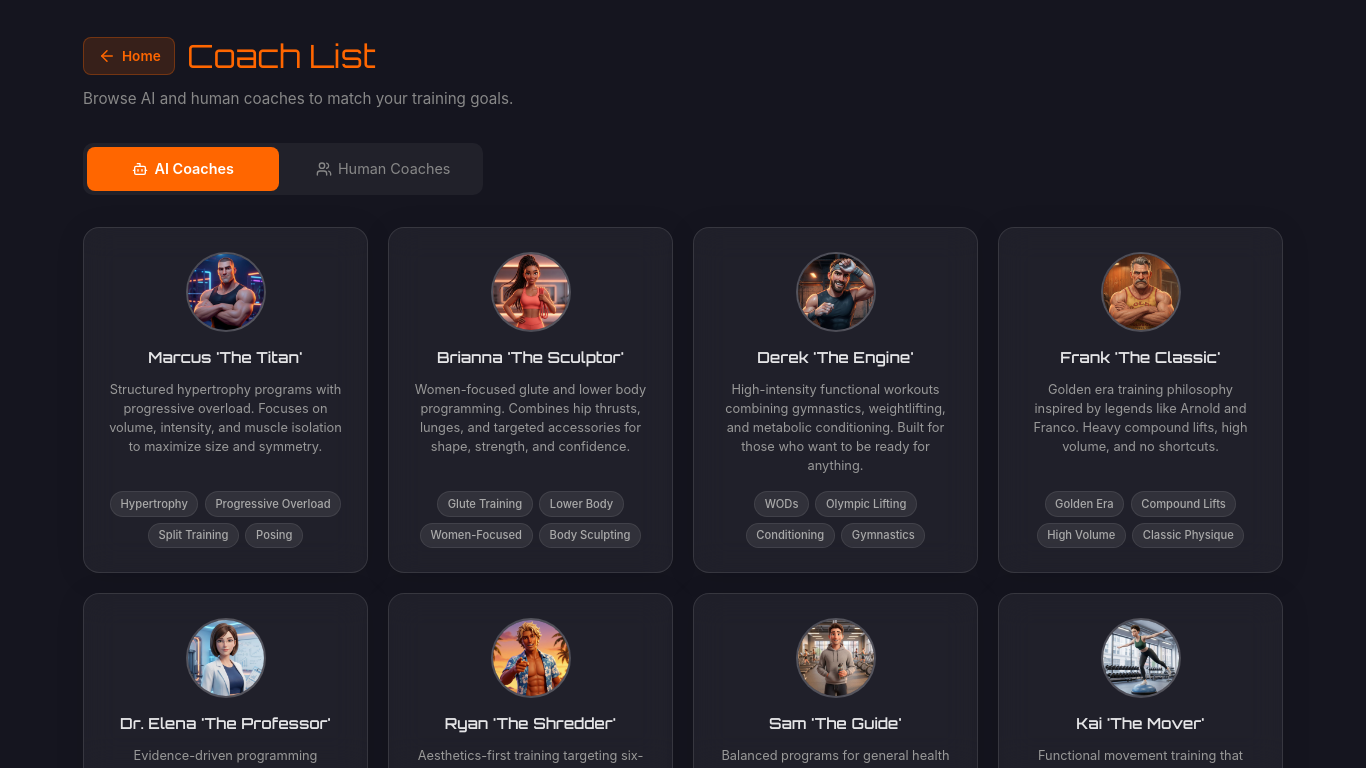
Scenario: CoachSelectionPage › shows a Start Training button after selection
Click the button with test id "coach-card-crossfit": (836, 400) [693,227,978,573]
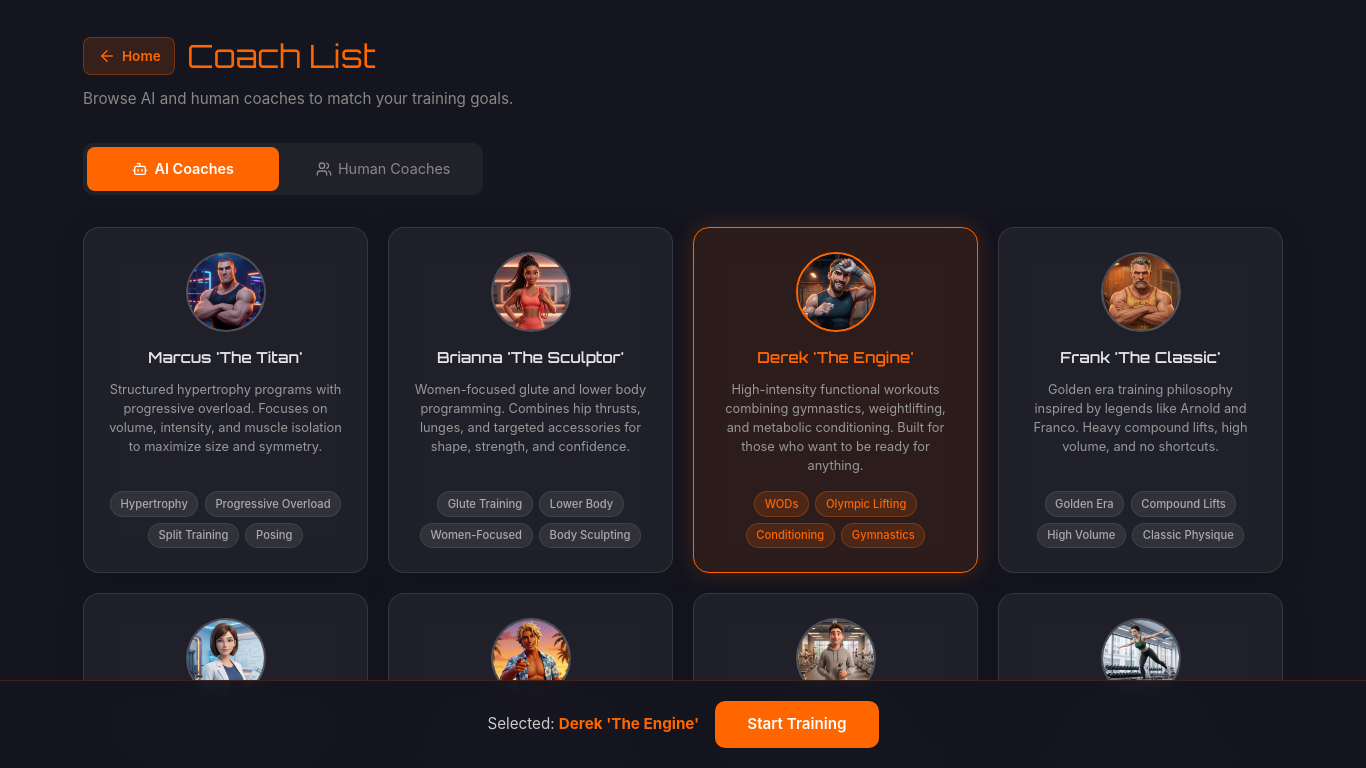
Expected: the button "Start Training" is shown, [715,701,879,748]
